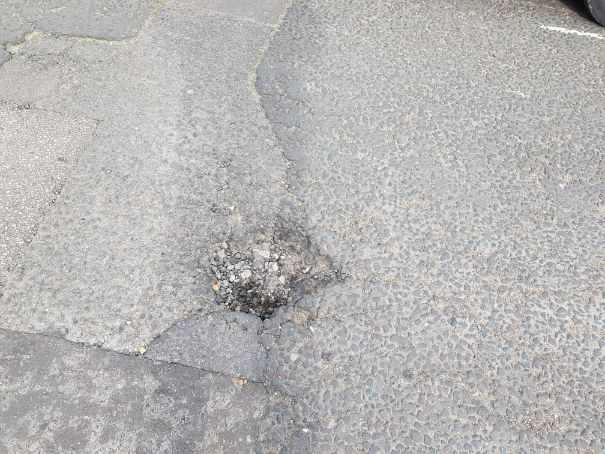pothole: (185, 210, 349, 321), (0, 23, 80, 79)
